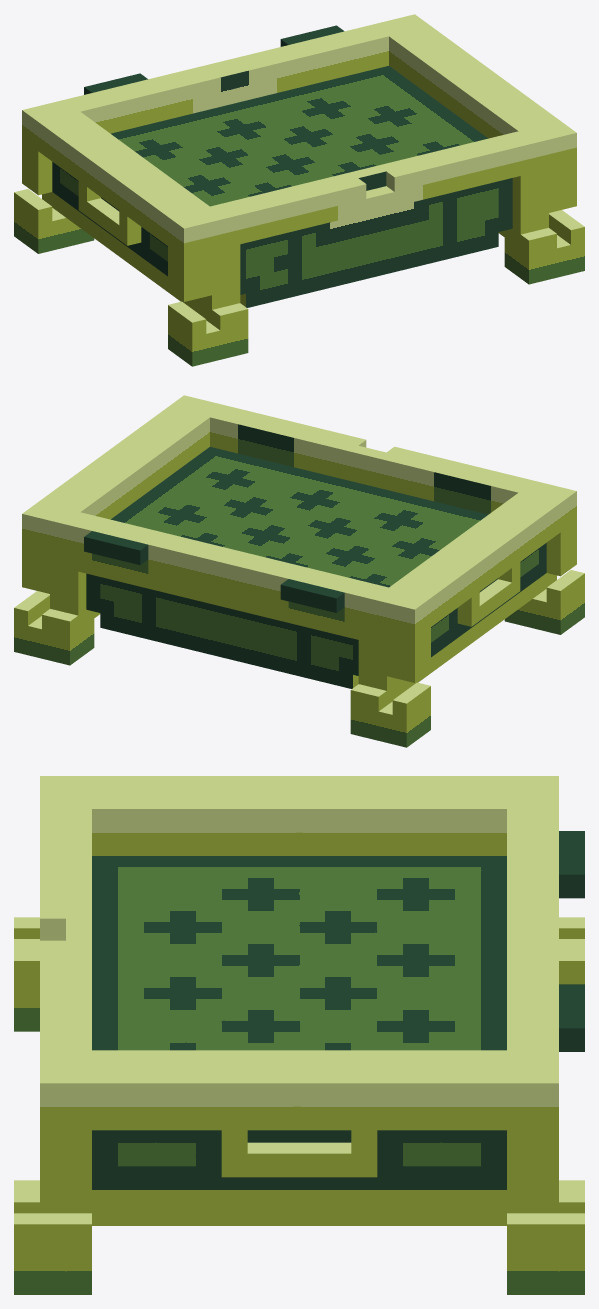
Rendered from sewer_treasure_bottomao.fezao.glb.
3 renders of one model, top to bottom at view 1: azimuth 30°, elevation 25°; view 2: azimuth 150°, elevation 25°; view 3: azimuth 270°, elevation 25°, orthographic. The views are drawn at different scales.
Visible parts, largest first — view 1: SEWER_TREASURE_BOTTOMAO; view 2: SEWER_TREASURE_BOTTOMAO; view 3: SEWER_TREASURE_BOTTOMAO.
Boxes of the visible parts, x1=… form: SEWER_TREASURE_BOTTOMAO: x1=14, y1=14, x2=584, y2=366; SEWER_TREASURE_BOTTOMAO: x1=14, y1=395, x2=584, y2=747; SEWER_TREASURE_BOTTOMAO: x1=14, y1=776, x2=584, y2=1294.
Bounding box in the file's own units: 1.75 × 0.5625 × 1.38.
Materials: 1 (1 with a texture image).
